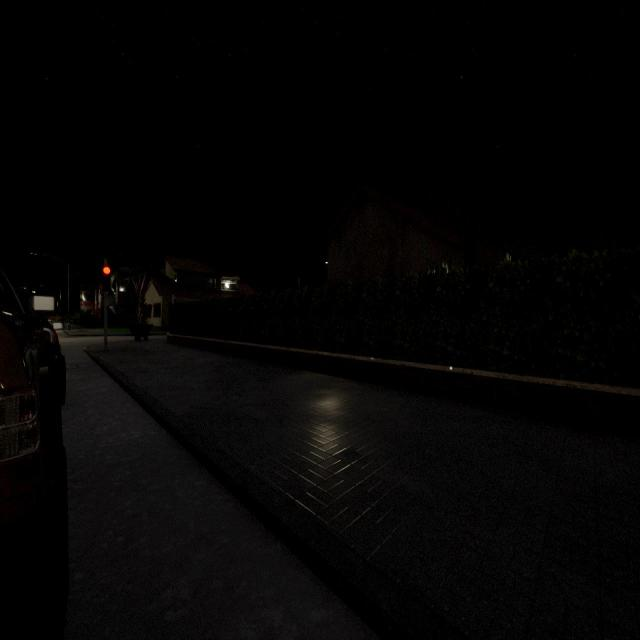Vehicle: (0, 270, 66, 523)
traffic_light: (102, 263, 111, 292)
